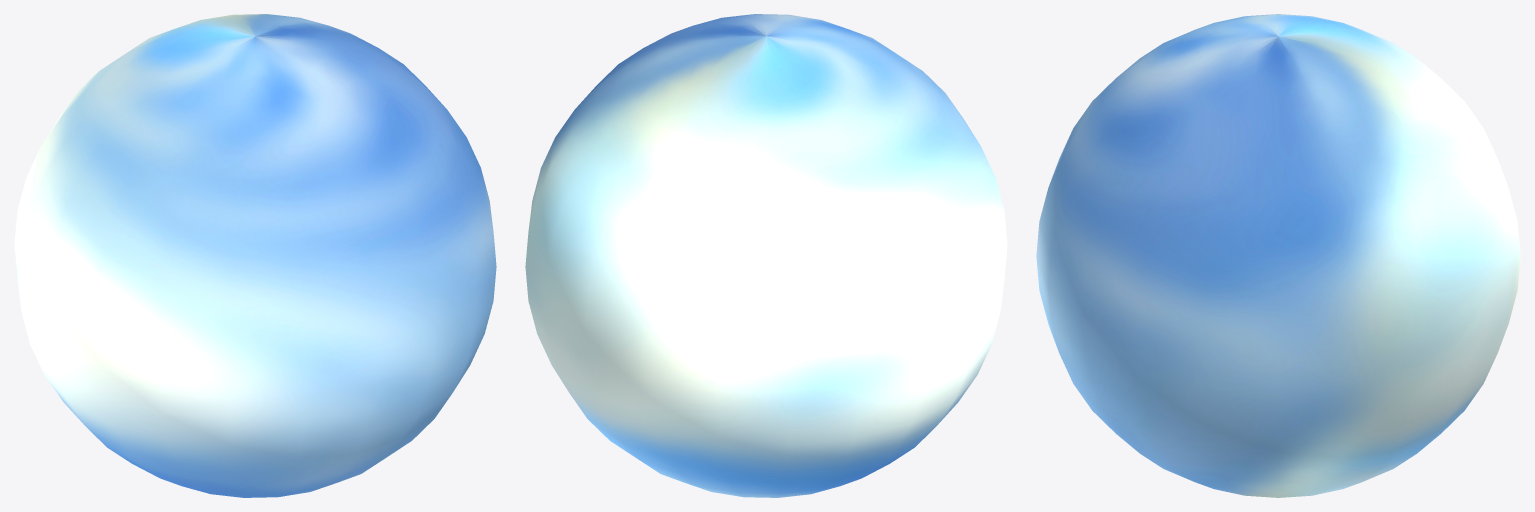
The picture shows the model from 3 angles, left to right: view 1: azimuth 30°, elevation 25°; view 2: azimuth 150°, elevation 25°; view 3: azimuth 270°, elevation 25°; orthographic projection.
Parts seen in each view (by area): view 1: Environment; view 2: Environment; view 3: Environment.
Boxes of the visible parts, <box> form: Environment: <box>14,14,496,497</box>; Environment: <box>525,14,1007,497</box>; Environment: <box>1036,14,1520,497</box>.
Bounding box in the file's own units: 2 × 2 × 2.
